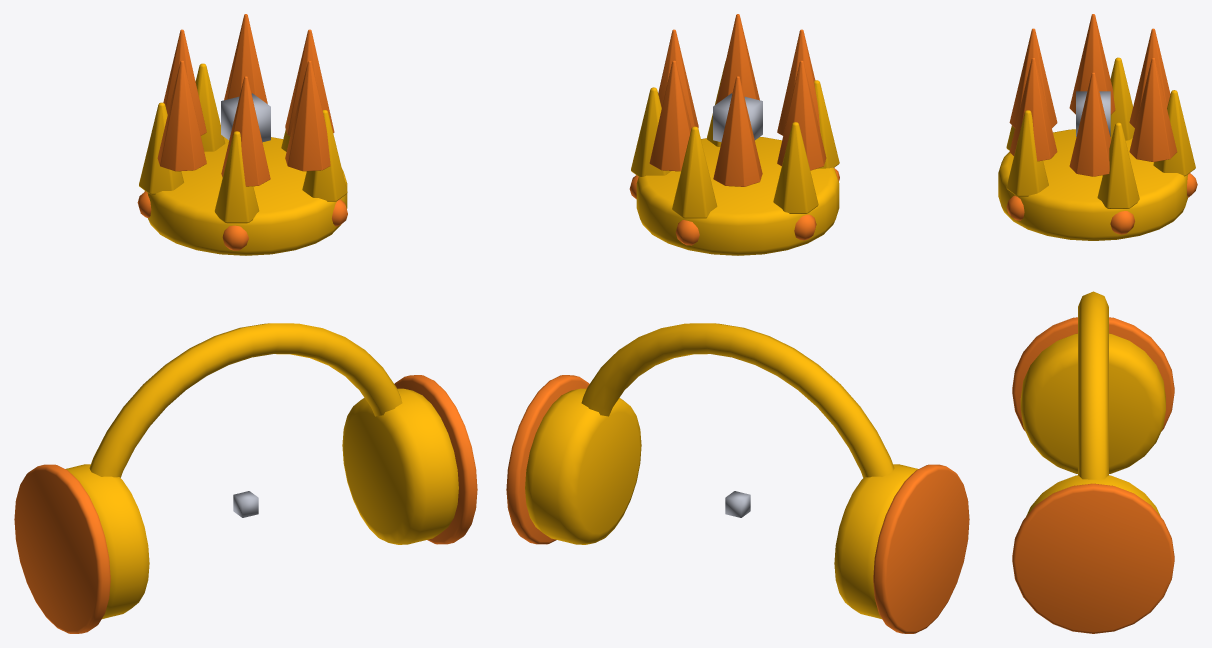
Rendered from Immortal.fbx.
The picture shows the model from 3 angles, left to right: view 1: azimuth 30°, elevation 25°; view 2: azimuth 150°, elevation 25°; view 3: azimuth 270°, elevation 25°; orthographic projection. The views are drawn at different scales.
Visible parts, largest first — view 1: Goldn, Pulse_Ring-1, Float_Spin_CrownBand, Pulse_Ring1, Float_Spin_Pulse_Flame3, Float_Spin_Pulse_Flame5, Float_Spin_Pulse_Flame4, Float_Spin_CrownSpike2, Float_Spin_Pulse_Flame1, Float_Spin_CrownSpike1, Float_Spin_CrownSpike3, Float_Spin_CrownSpike0 (+3 smaller); view 2: Goldn, Pulse_Ring-1, Float_Spin_CrownBand, Pulse_Ring1, Float_Spin_Pulse_Flame2, Float_Spin_Pulse_Flame1, Float_Spin_CrownSpike0, Float_Spin_CrownSpike1, Float_Spin_Pulse_Flame3, Float_Spin_Pulse_Flame5, Float_Spin_CrownSpike4, Float_Spin_Pulse_Flame4 (+3 smaller); view 3: Pulse_Ring1, Goldn, Float_Spin_CrownBand, Pulse_Ring-1, Float_Spin_Pulse_Flame1, Float_Spin_Pulse_Flame0, Float_Spin_CrownSpike4, Float_Spin_Pulse_Flame5, Float_Spin_CrownSpike3, Float_Spin_Pulse_Flame3, Float_Spin_CrownSpike0, Float_Spin_Pulse_Flame4 (+5 smaller).
Boxes of the visible parts, x1,y1,x2,y2 form: Goldn: [65, 323, 458, 618]; Pulse_Ring-1: [14, 464, 110, 633]; Float_Spin_CrownBand: [144, 137, 347, 255]; Pulse_Ring1: [394, 375, 477, 544]; Float_Spin_Pulse_Flame3: [157, 60, 206, 171]; Float_Spin_Pulse_Flame5: [285, 60, 330, 171]; Float_Spin_Pulse_Flame4: [221, 76, 270, 186]; Float_Spin_CrownSpike2: [214, 131, 259, 223]; Float_Spin_Pulse_Flame1: [224, 14, 267, 103]; Float_Spin_CrownSpike1: [139, 102, 183, 194]; Float_Spin_CrownSpike3: [302, 110, 347, 201]; Float_Spin_CrownSpike0: [195, 63, 225, 151]; Goldn: [525, 323, 918, 618]; Pulse_Ring-1: [873, 464, 969, 633]; Float_Spin_CrownBand: [636, 137, 839, 255]; Pulse_Ring1: [506, 375, 589, 544]; Float_Spin_Pulse_Flame2: [713, 76, 762, 186]; Float_Spin_Pulse_Flame1: [649, 60, 691, 171]; Float_Spin_CrownSpike0: [672, 126, 717, 218]; Float_Spin_CrownSpike1: [773, 122, 818, 213]; Float_Spin_Pulse_Flame3: [777, 60, 826, 170]; Float_Spin_Pulse_Flame5: [716, 14, 759, 103]; Float_Spin_CrownSpike4: [631, 87, 671, 176]; Float_Spin_Pulse_Flame4: [777, 29, 820, 135]; Pulse_Ring1: [1012, 483, 1174, 633]; Goldn: [1020, 291, 1165, 516]; Float_Spin_CrownBand: [998, 129, 1188, 240]; Pulse_Ring-1: [1012, 317, 1174, 431]; Float_Spin_Pulse_Flame1: [1129, 58, 1177, 162]; Float_Spin_Pulse_Flame0: [1069, 72, 1111, 176]; Float_Spin_CrownSpike4: [1097, 122, 1139, 208]; Float_Spin_Pulse_Flame5: [1009, 58, 1057, 161]; Float_Spin_CrownSpike3: [1006, 110, 1048, 196]; Float_Spin_Pulse_Flame3: [1069, 14, 1115, 114]; Float_Spin_CrownSpike0: [1153, 90, 1195, 176]; Float_Spin_Pulse_Flame4: [1009, 28, 1057, 128].
Bounding box in the file's own units: 2.38 × 3.22 × 1.15.
